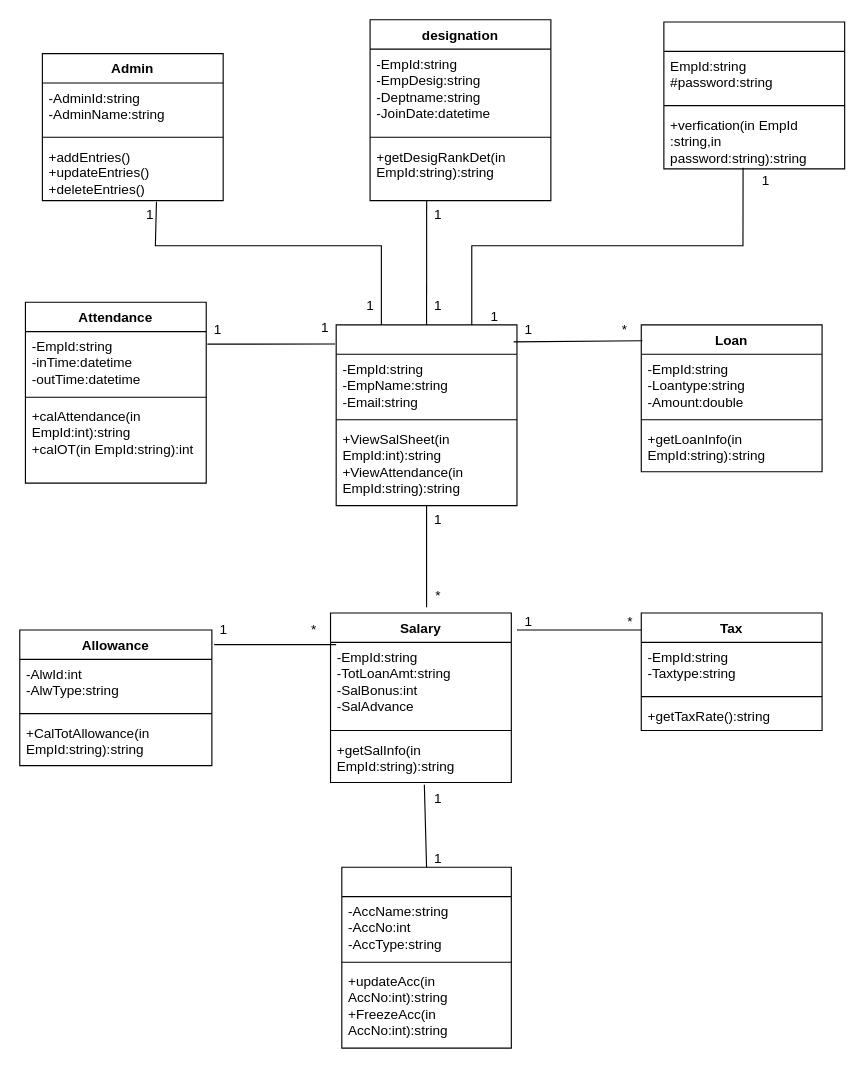
Some shapes in this 864 by 1071 pixel diagram are drawn without their labels. Each missing label, with the box of its shape:
Account: (341, 866, 511, 1048)
Employee: (335, 324, 517, 506)
Login: (663, 21, 845, 169)
